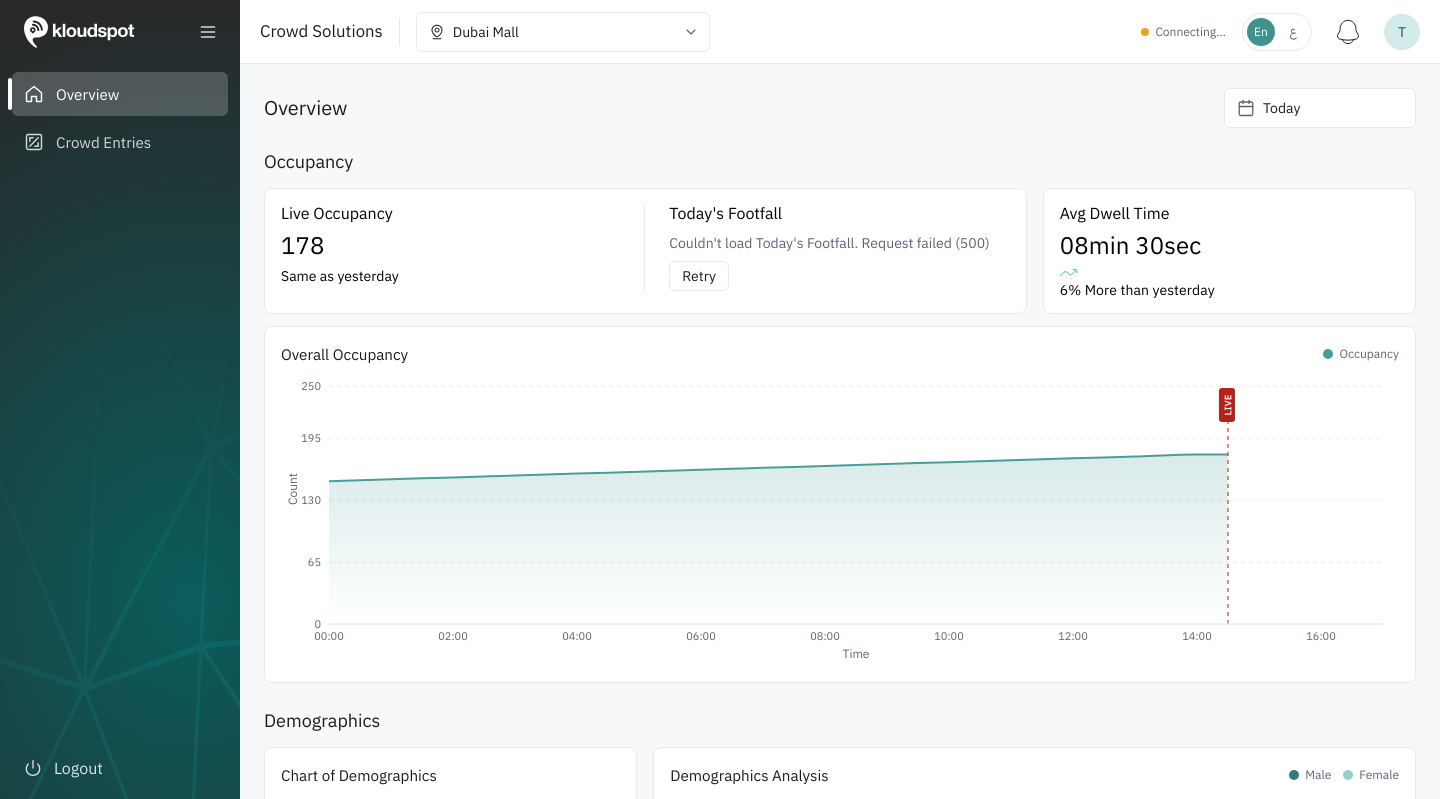
it: Overview page › keeps the other cards when footfall fails, and retries
Expected: the text "08min 30sec" is shown, top-left (1060, 233), bottom-right (1202, 257)
Expected: the text "178" is shown, top-left (281, 233), bottom-right (324, 257)
Click the button "Retry": point(699, 276) top-left (669, 261), bottom-right (729, 291)
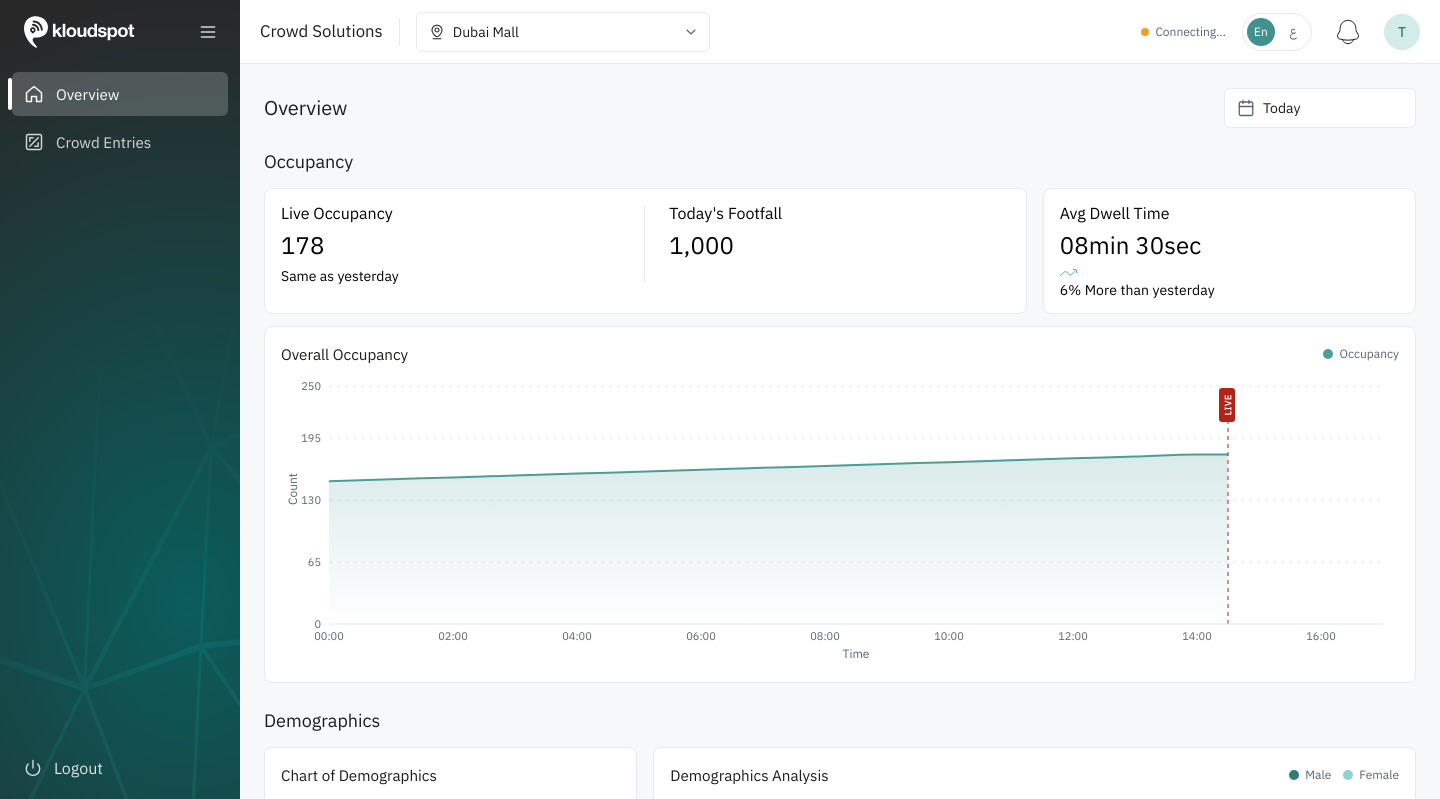
Result: the text "1,000" is shown at top-left (669, 233), bottom-right (734, 257)
